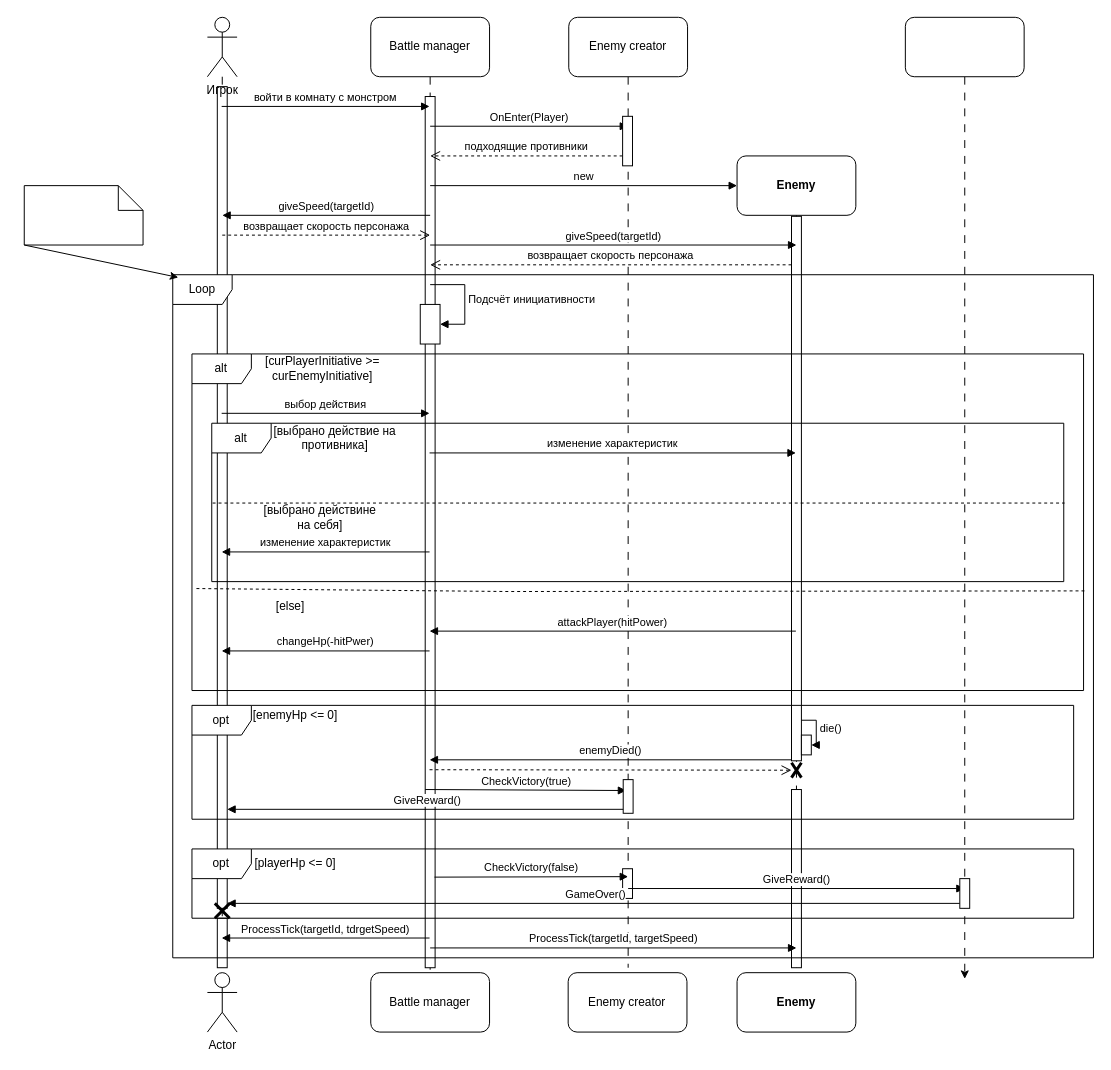
This 1111x1070 diagram has some shape labels left out. Each missing label, with the centre of its shape:
"Game" goes at (964,46).
"после каждого хода" goes at (83,215).
